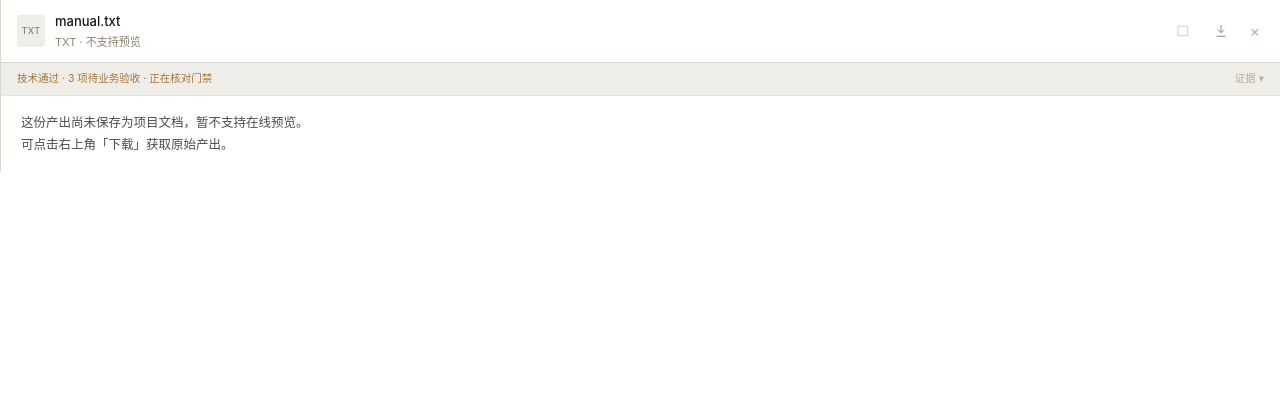
ChatArtifactPreview › records a reasoned business acceptance from the verification panel
This screenshot has width=1280, height=398.
Click the button "技术通过 · 3 项待业务验收 · 正在核对门禁 证据 ▾".
click(115, 78)  # box [17, 71, 1264, 87]
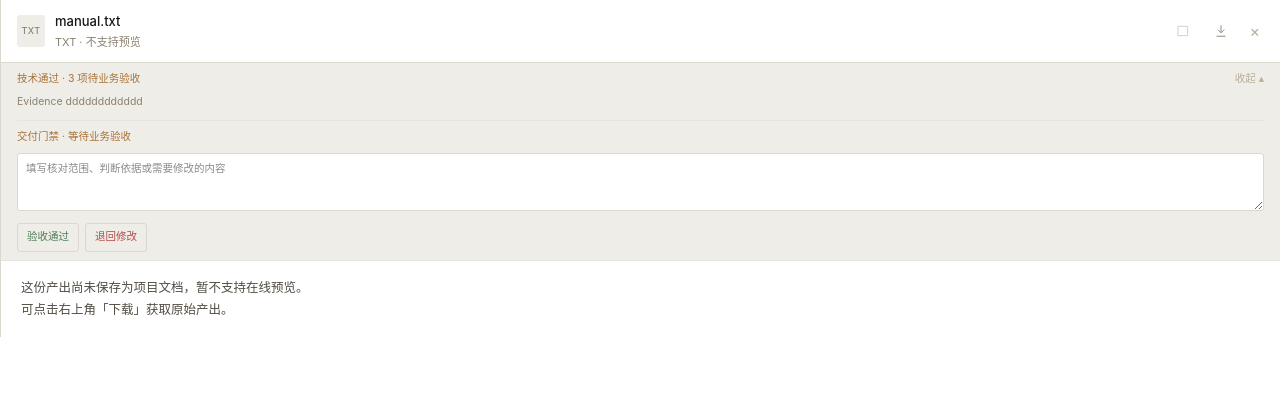
Check: the text "交付门禁 · 等待业务验收" is shown, box [17, 130, 131, 142]
Type "已逐项核对。" into the text box named "业务验收依据".
click(640, 182); type("已逐项核对。")  # box [17, 153, 1264, 211]
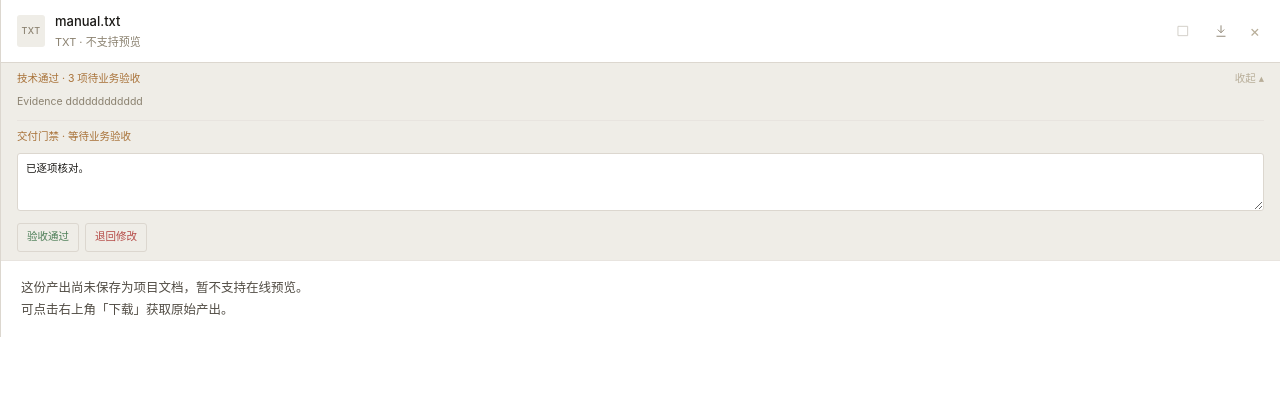
Click the button "验收通过".
click(48, 238)  # box [17, 223, 79, 252]
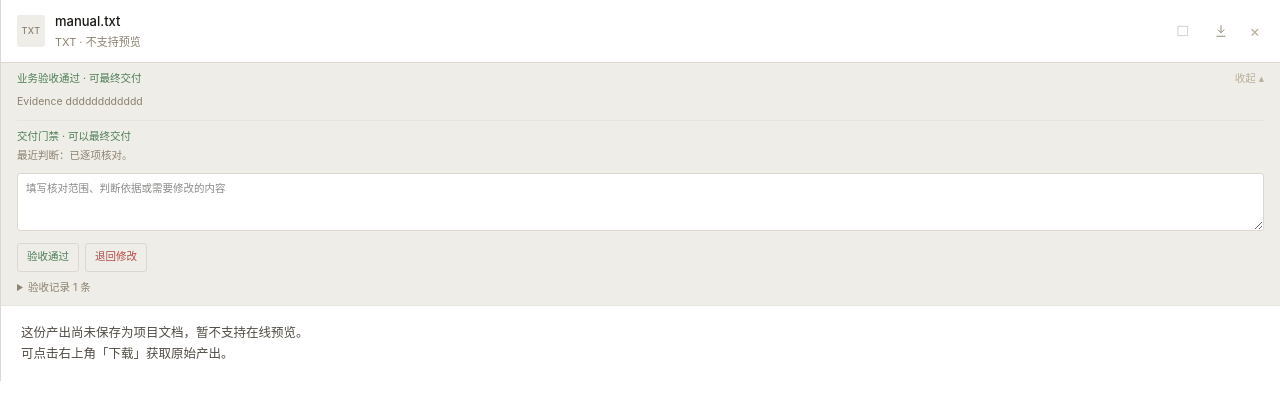
Check: the button "业务验收通过 · 可最终交付 收起 ▴" is shown, box [17, 71, 1264, 87]
